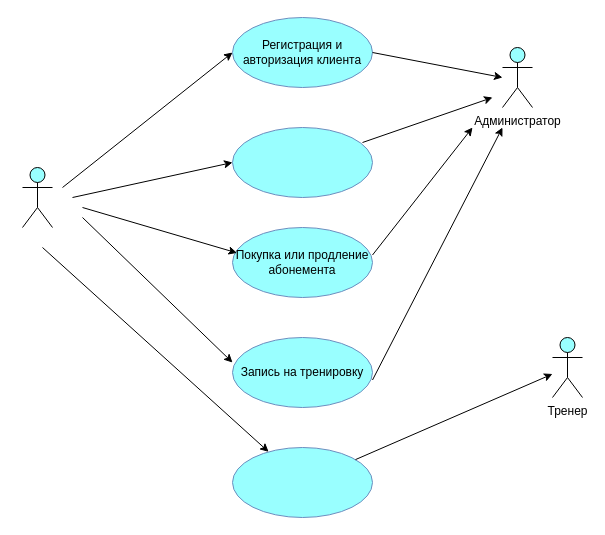
Some shapes in this 605 by 535 pixel diagram are drawn without their labels. Here are the shapes that lost their labels. From the top down, the centre of each, then its label:
(x=302, y=162): Выбор абонемента
(x=37, y=197): Клиент
(x=302, y=482): Отслеживание прогресса в профиле
